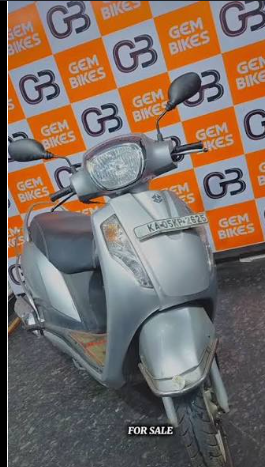licence: (134, 212, 209, 239)
